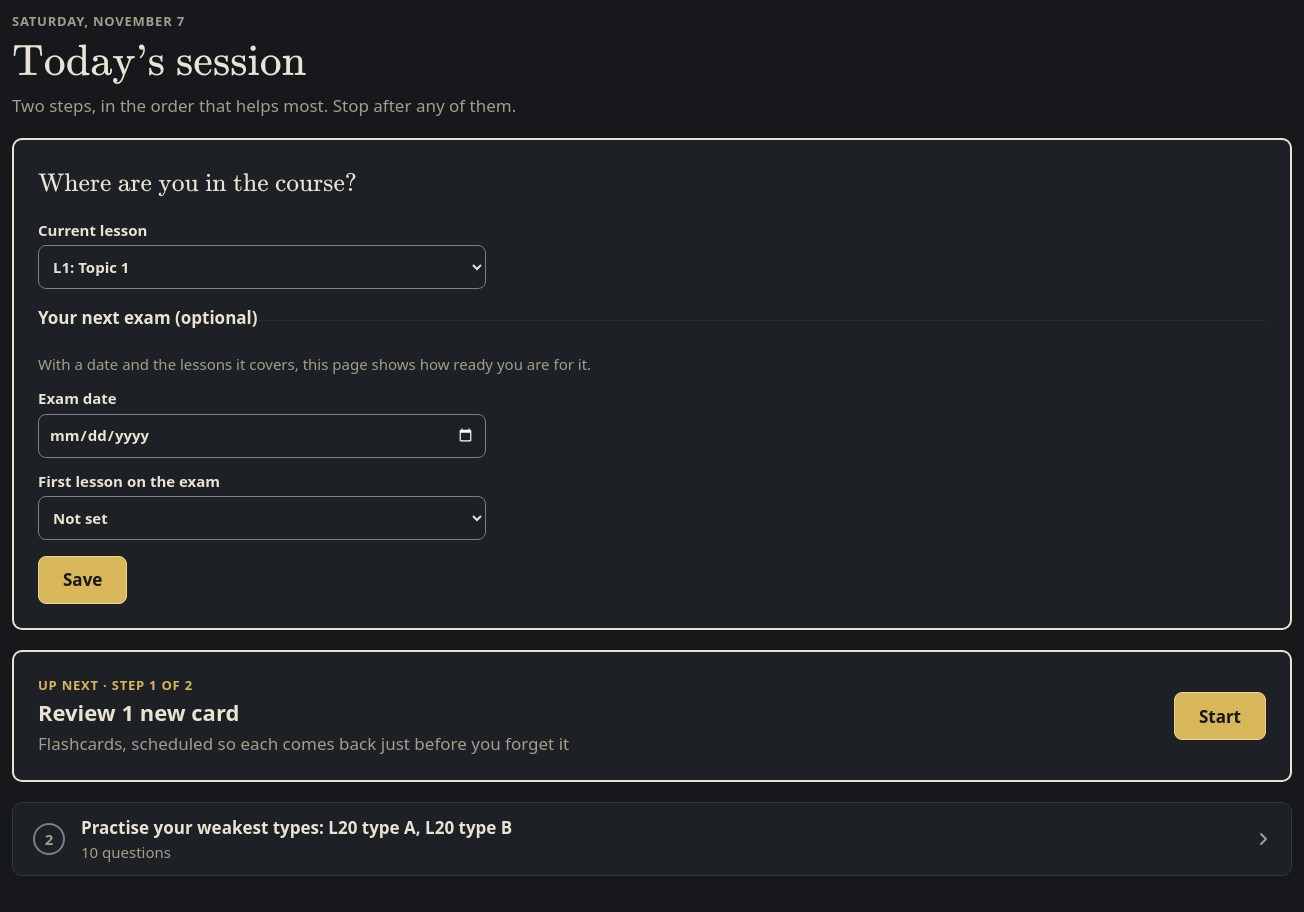
Scenario: first launch does not also ask the daily lesson question
Expected: the heading "Today's session" is shown, [12,35,306,87]
Click the button "Save" at (83, 580), box [38,556,127,604]
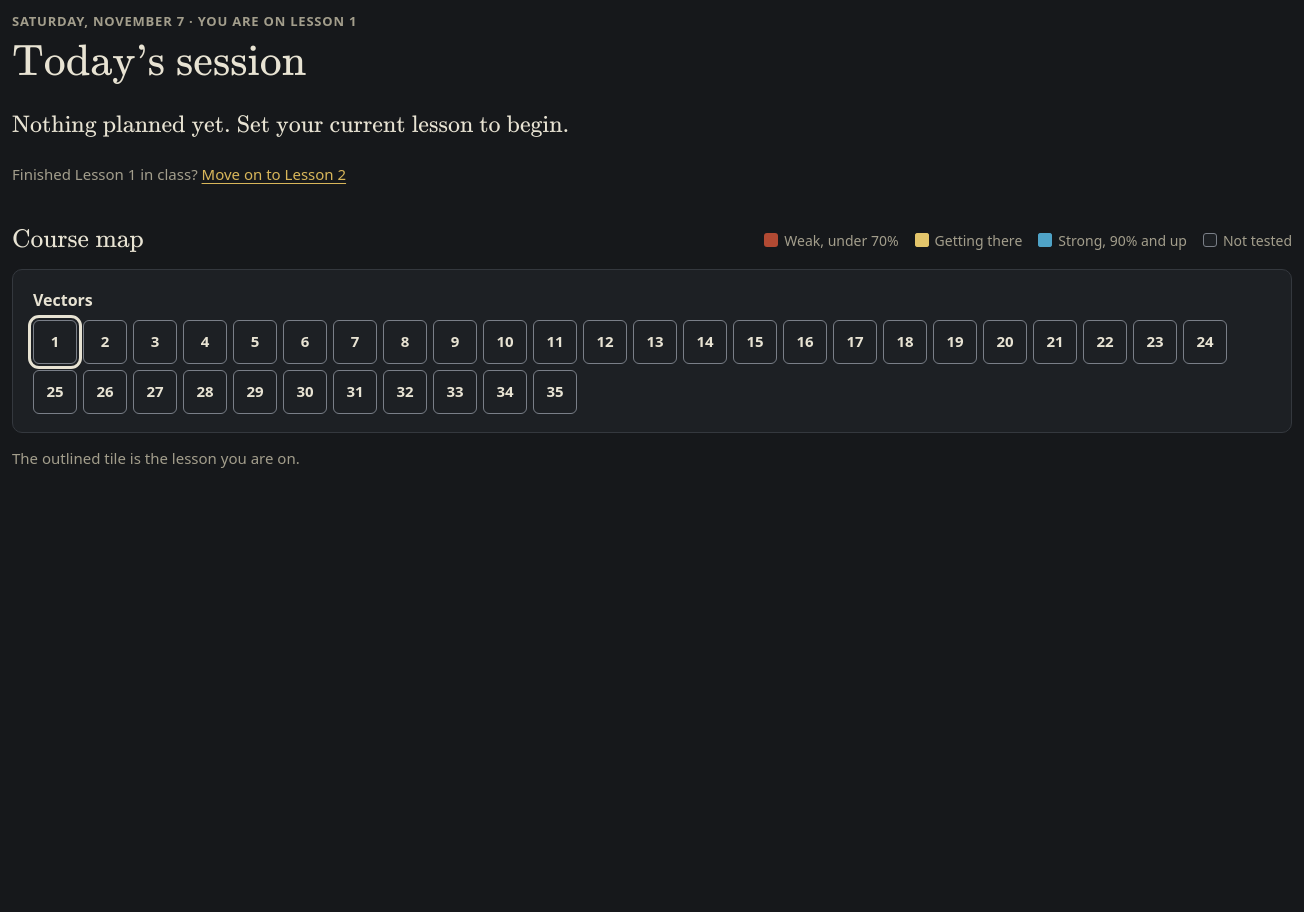
Expected: the text "Where are you in the course?" is gone
